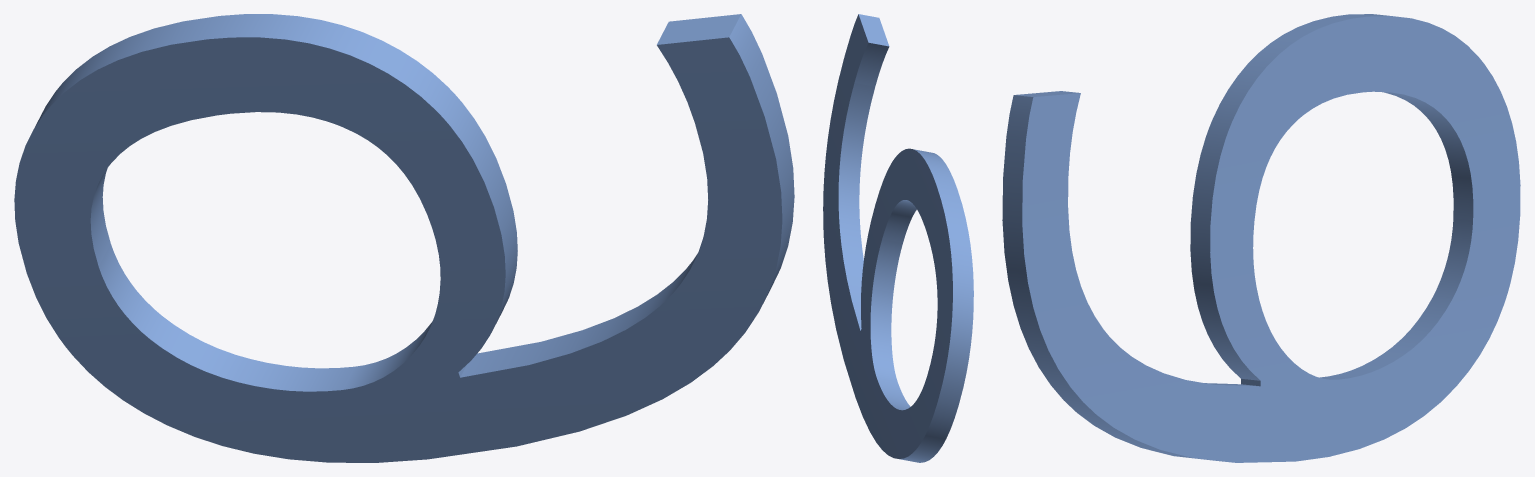
File: New_Number_6.gltf
3 renders of one model, left to right at view 1: azimuth 30°, elevation 25°; view 2: azimuth 150°, elevation 25°; view 3: azimuth 270°, elevation 25°, orthographic. The views are drawn at different scales.
Parts seen in each view (by area): view 1: Part 384; view 2: Part 384; view 3: Part 384.
Boxes of the visible parts, left/top/right/bottom form: Part 384: left=14, top=14, right=794, bottom=462; Part 384: left=823, top=14, right=973, bottom=462; Part 384: left=1002, top=14, right=1520, bottom=462.
Bounding box in the file's own units: 0.00406 × 0.00399 × 0.00418.
